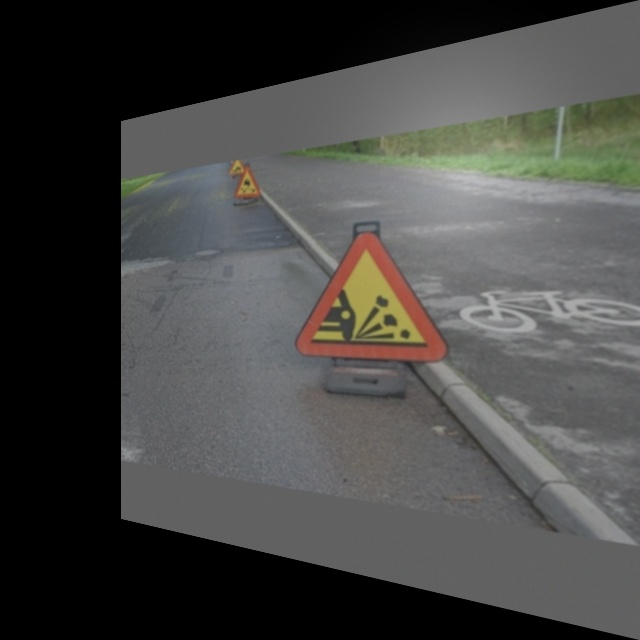Loose_Gravel: (304, 222, 441, 360)
